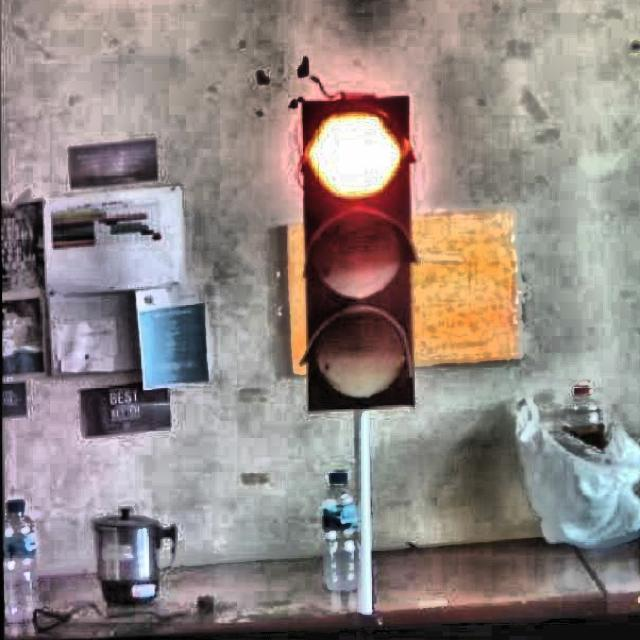red: (298, 96, 418, 409)
